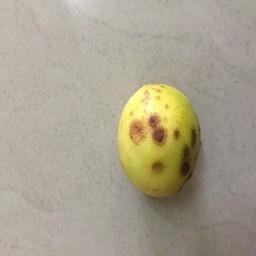Bad_lime: (116, 78, 200, 203)
